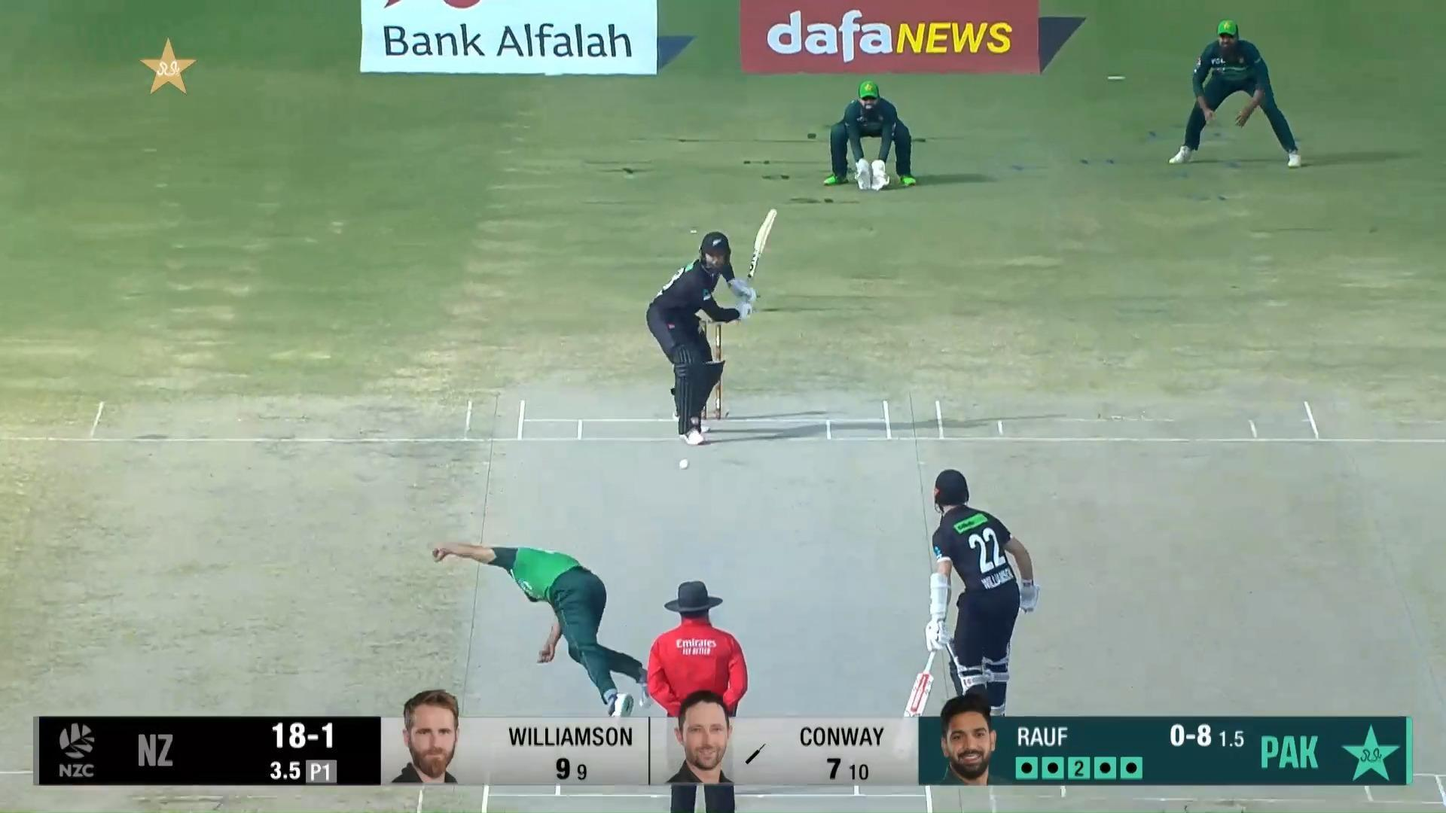BM 1: (646, 209, 778, 446)
BO: (430, 540, 655, 718)
